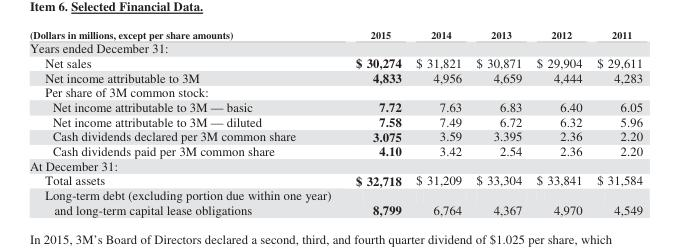table: (28, 28, 642, 216)
table column: (28, 28, 342, 216), (342, 28, 408, 216), (408, 28, 468, 216), (468, 28, 528, 216), (528, 28, 588, 216), (588, 28, 642, 216)
table column header: (28, 28, 642, 40)
table projected row header: (28, 40, 642, 55), (28, 84, 642, 99), (28, 158, 642, 172)
table row: (28, 187, 642, 216), (28, 40, 642, 55), (28, 69, 642, 84), (28, 84, 642, 99), (28, 99, 642, 114), (28, 128, 642, 143), (28, 143, 642, 158), (28, 172, 642, 187), (28, 55, 642, 69), (28, 114, 642, 128), (28, 158, 642, 172), (28, 28, 642, 40)
